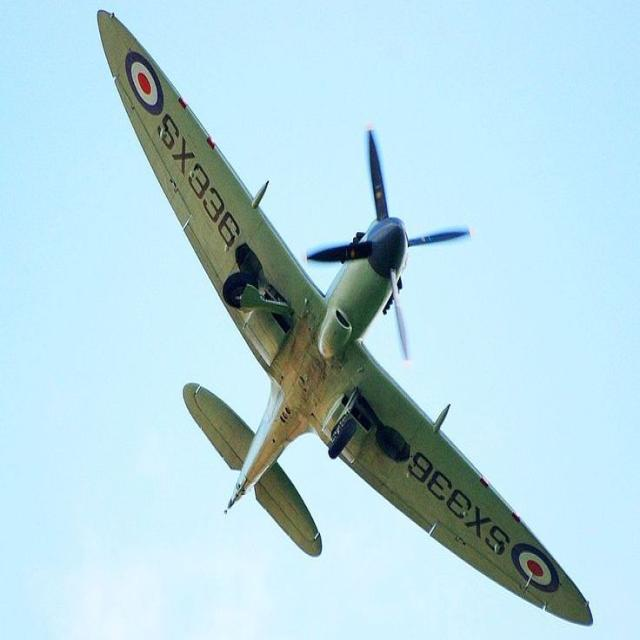iha: (96, 8, 595, 626)
